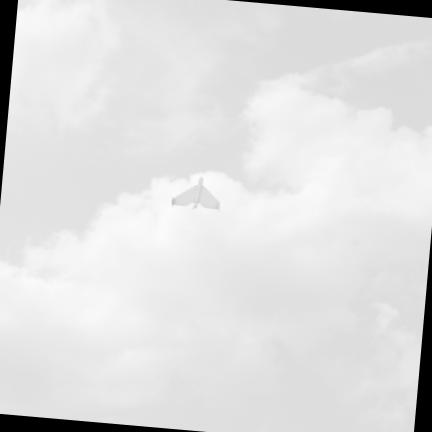Shahed: (172, 177, 219, 209)
